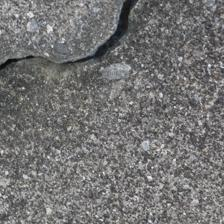Crack: (38, 31, 103, 55), (53, 5, 86, 41)
